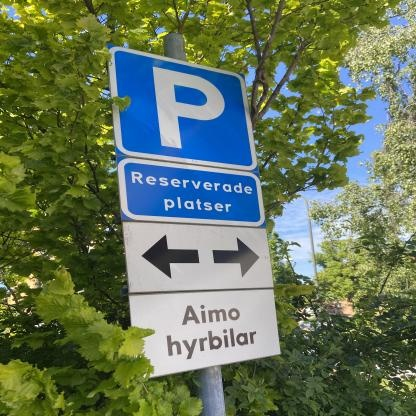P-skylt: (111, 45, 256, 170)
